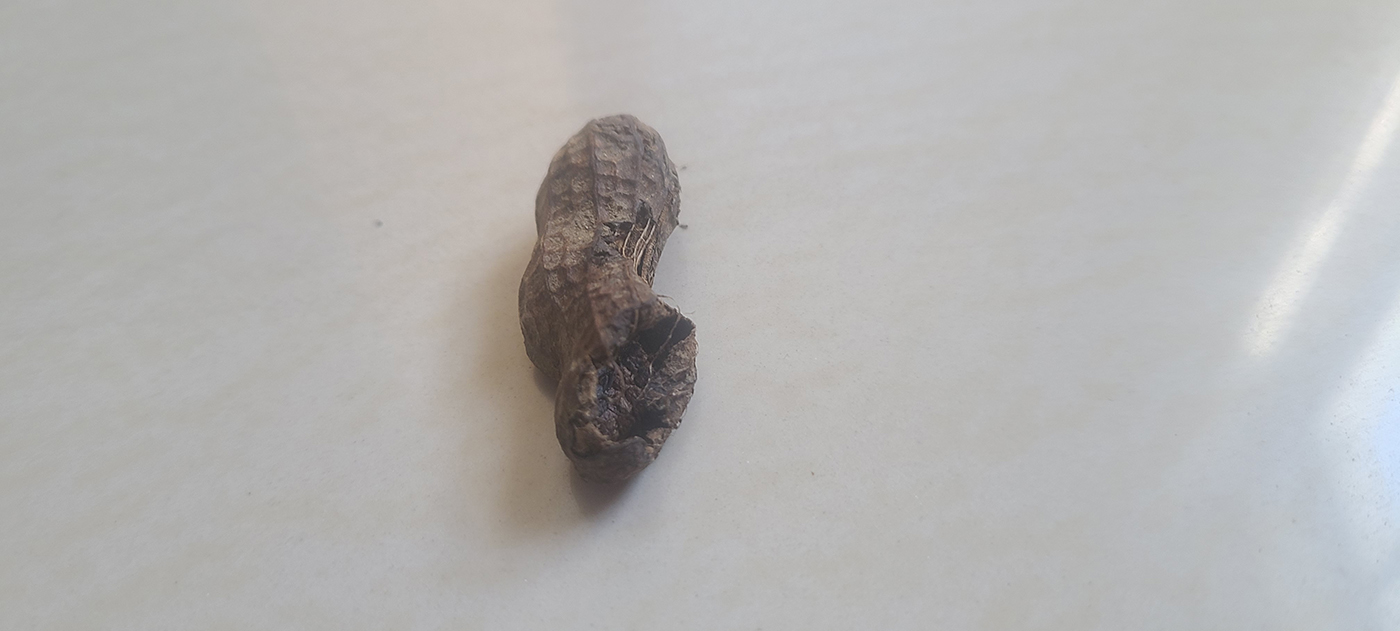l: (514, 111, 701, 482)
